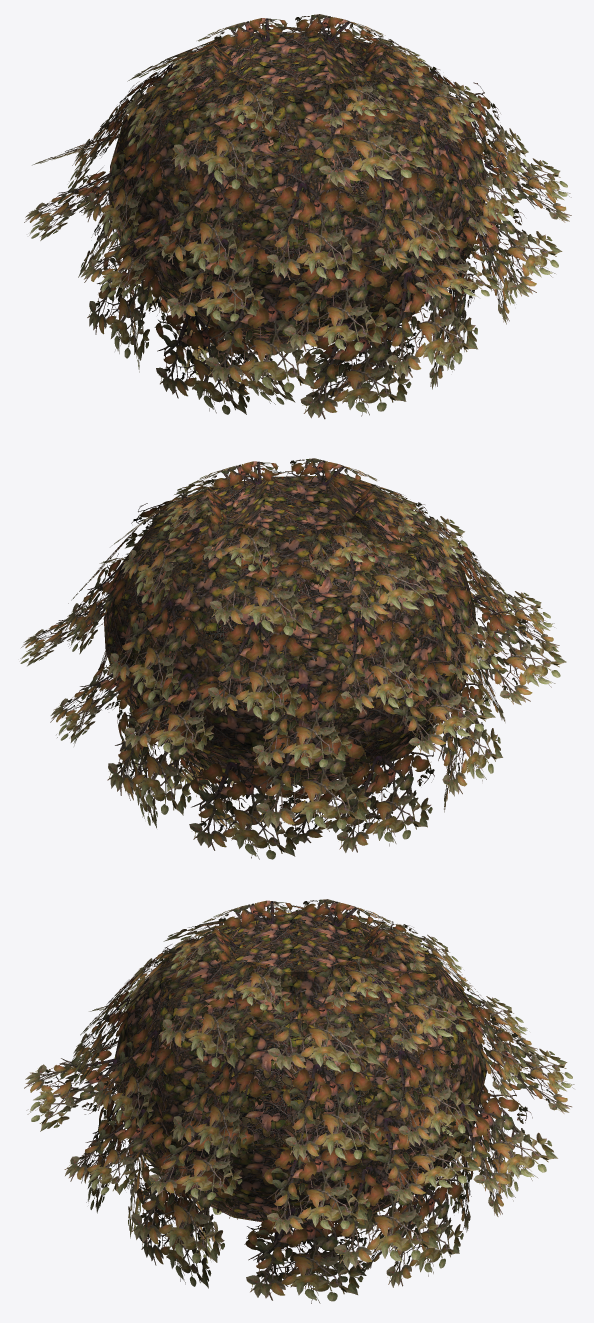
Rendered from poi_all_lair_leaf_large_l0.fbx.
3 views of the same model, one above another, from view 1: azimuth 30°, elevation 25°; view 2: azimuth 150°, elevation 25°; view 3: azimuth 270°, elevation 25° (orthographic).
Parts seen in each view (by area): view 1: mesh_node; view 2: mesh_node; view 3: mesh_node.
Part boxes in pixels (x1,y1,x2,y2): mesh_node: [24, 14, 571, 419]; mesh_node: [20, 458, 566, 859]; mesh_node: [24, 899, 574, 1303].
Size of the model in its own units: 5.04 by 3.32 by 5.1.
Materials: 3 (3 with a texture image).
